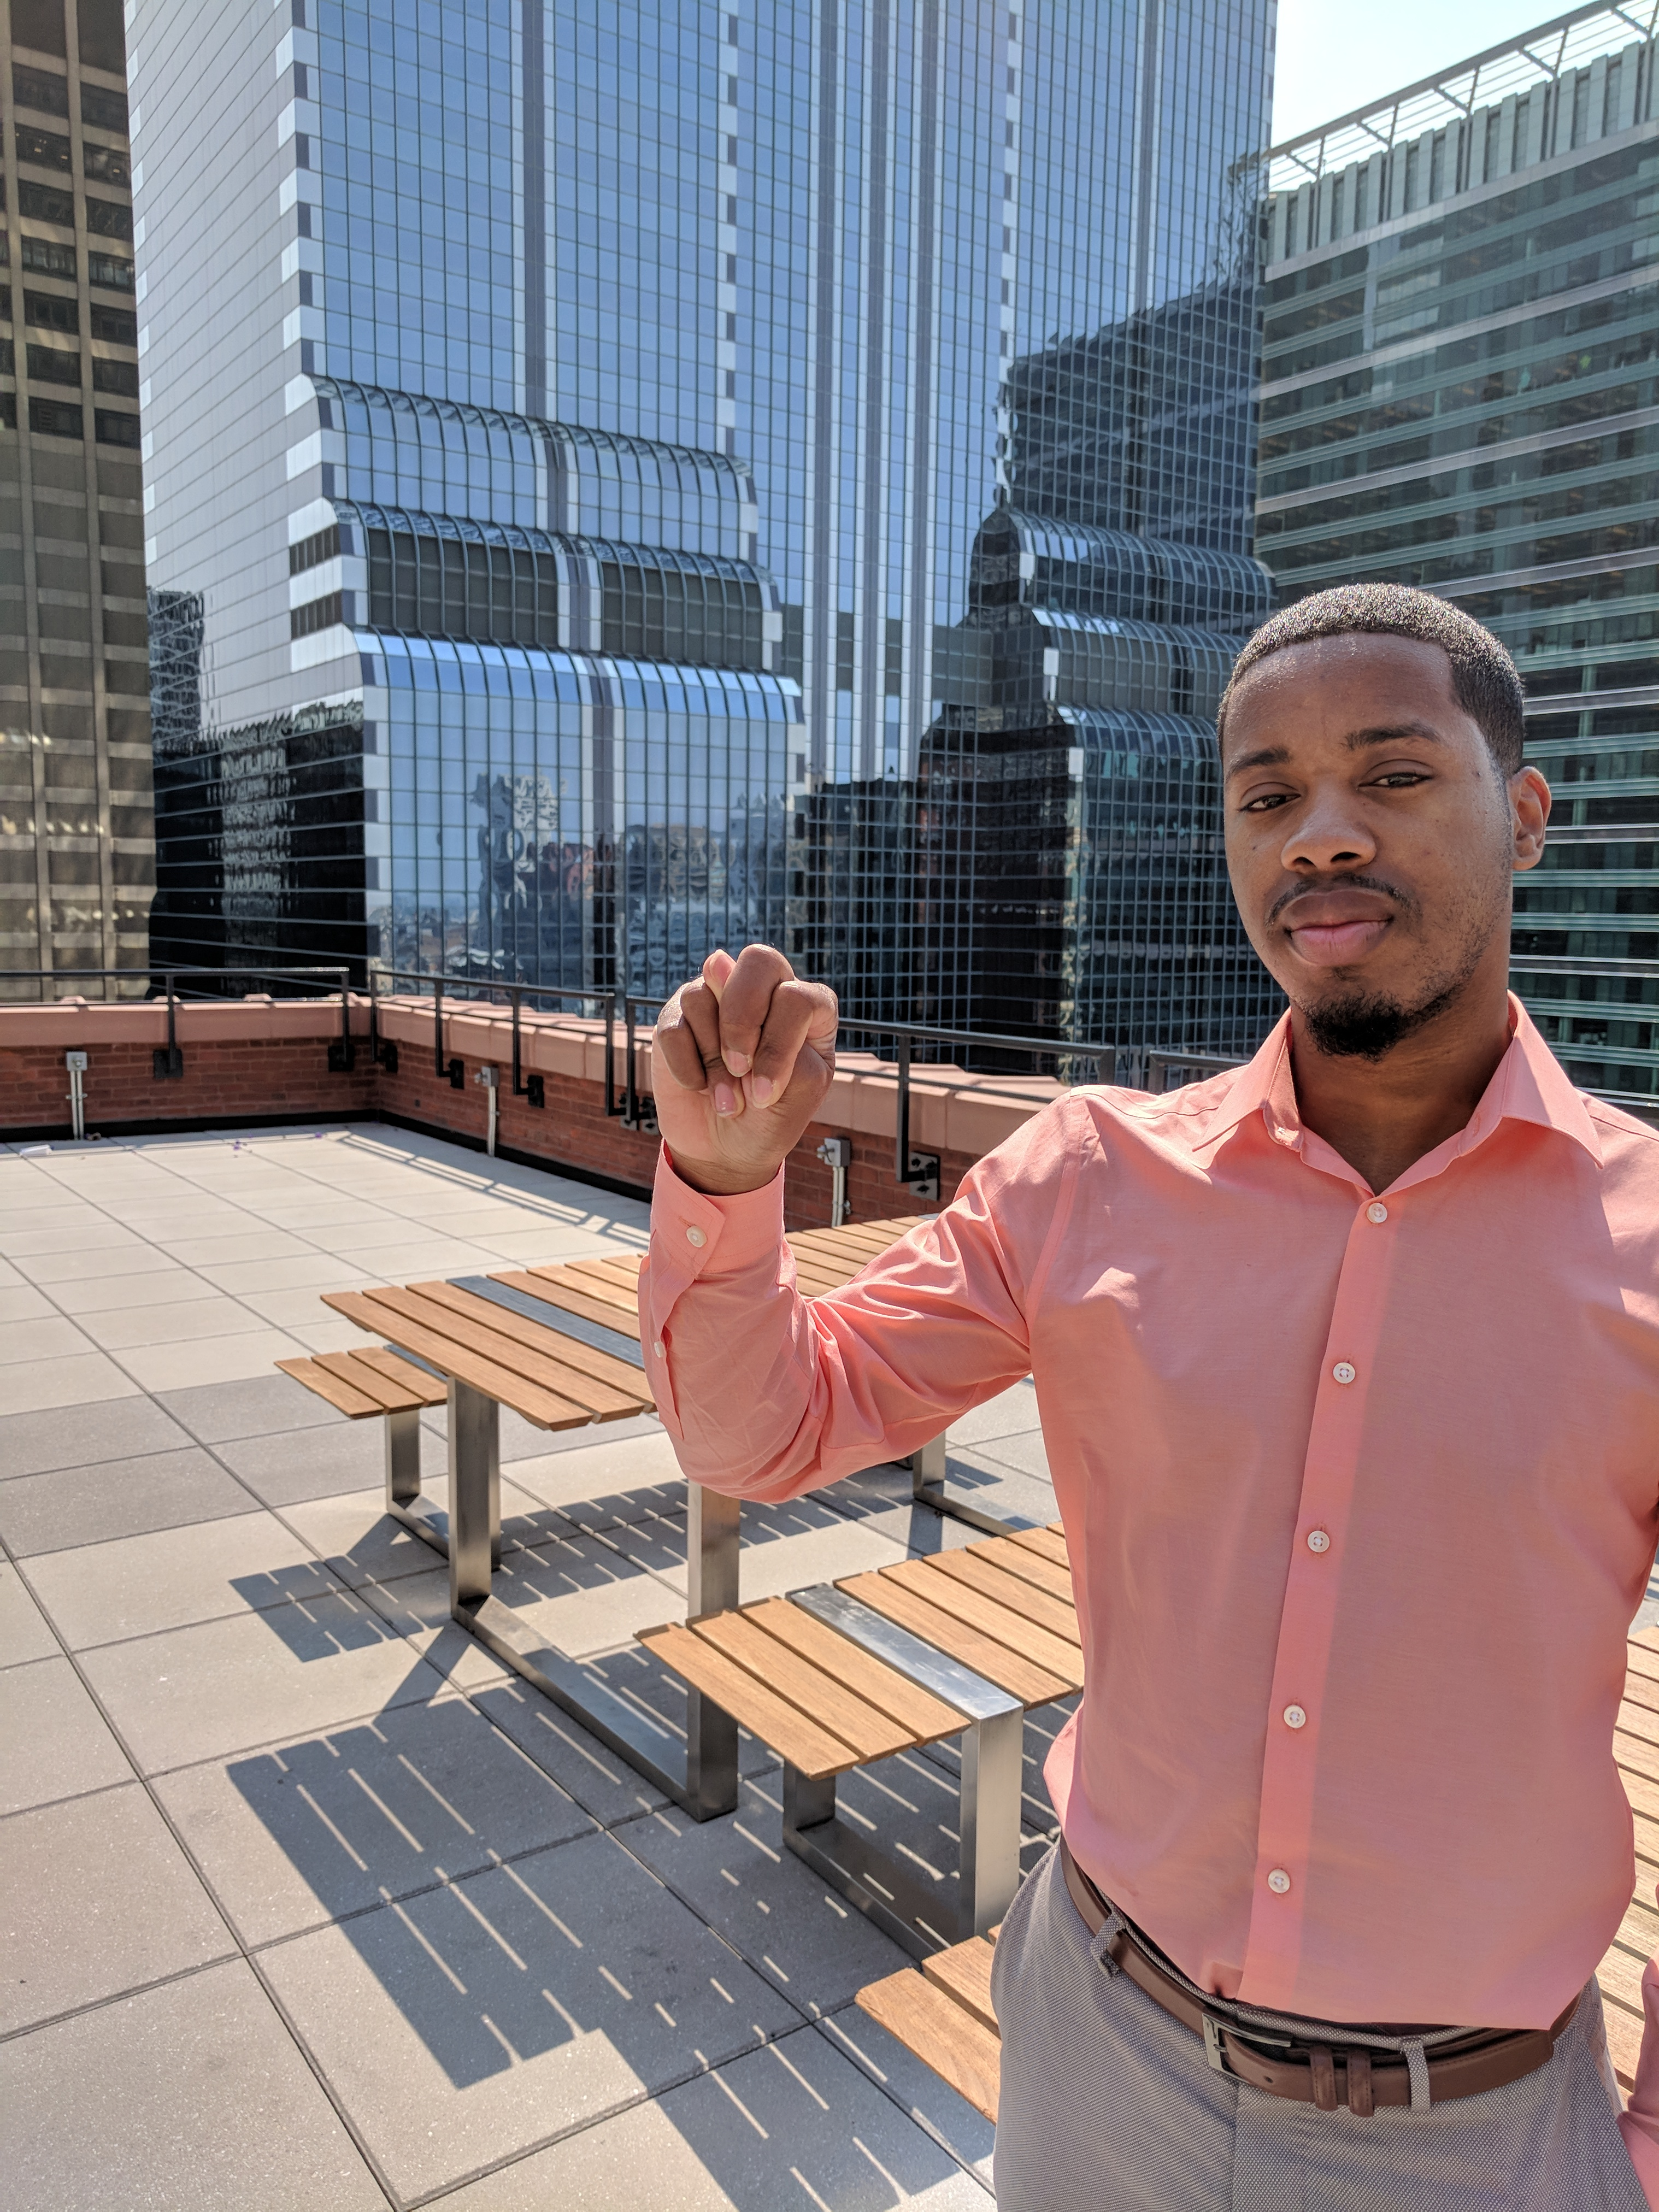n: (643, 944, 845, 1179)
